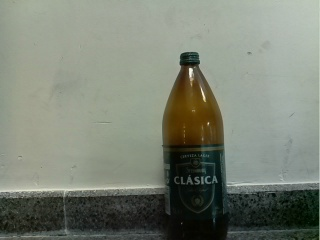pote cristal: (162, 52, 229, 240)
